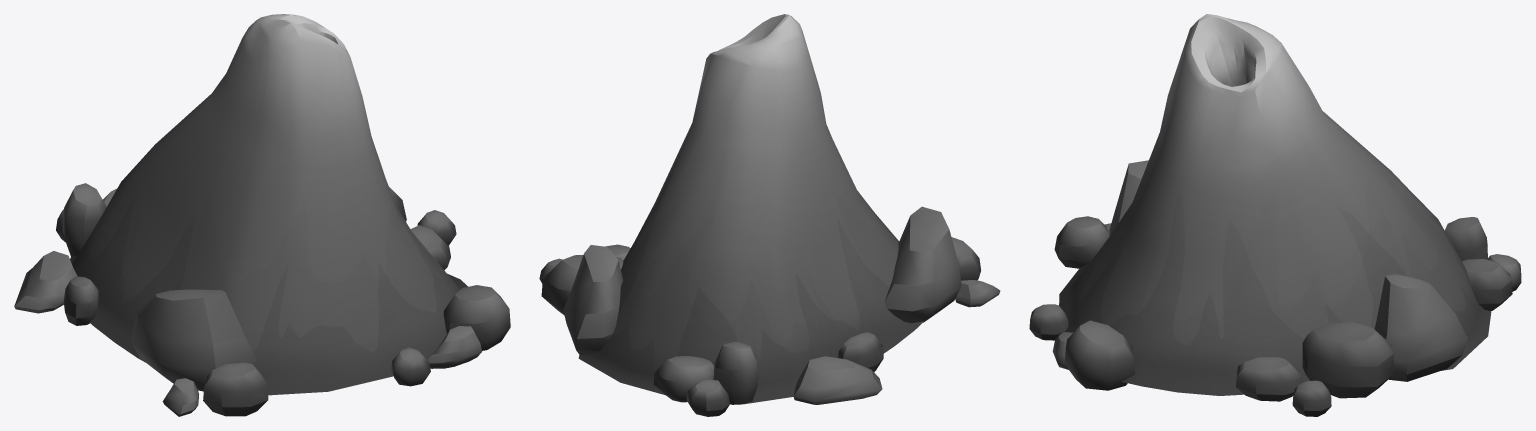
File: Volcano.fbx
3 views of the same model, side by side, from view 1: azimuth 30°, elevation 25°; view 2: azimuth 150°, elevation 25°; view 3: azimuth 270°, elevation 25° (orthographic). The views are drawn at different scales.
Visible parts, largest first — view 1: pCube1.015; view 2: pCube1.015; view 3: pCube1.015.
Part boxes in pixels (bbox=[...]): pCube1.015: bbox=[14, 14, 510, 416]; pCube1.015: bbox=[539, 14, 1000, 416]; pCube1.015: bbox=[1029, 14, 1521, 416].
Bounding box in the file's own units: 682 × 501 × 731.
Materials: 1 (1 with a texture image).
